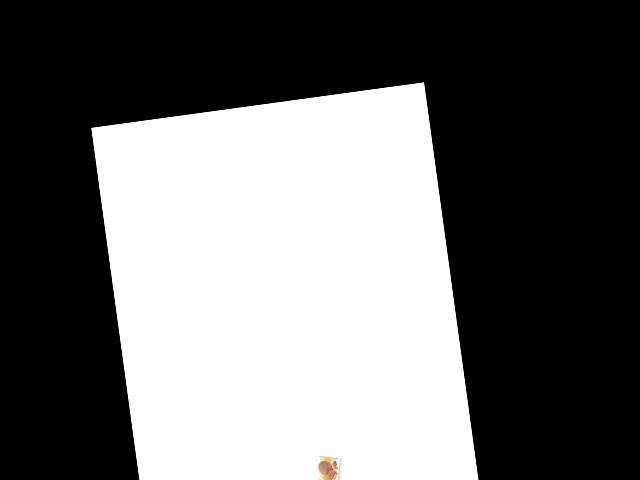chocolate: (310, 450, 342, 480)
